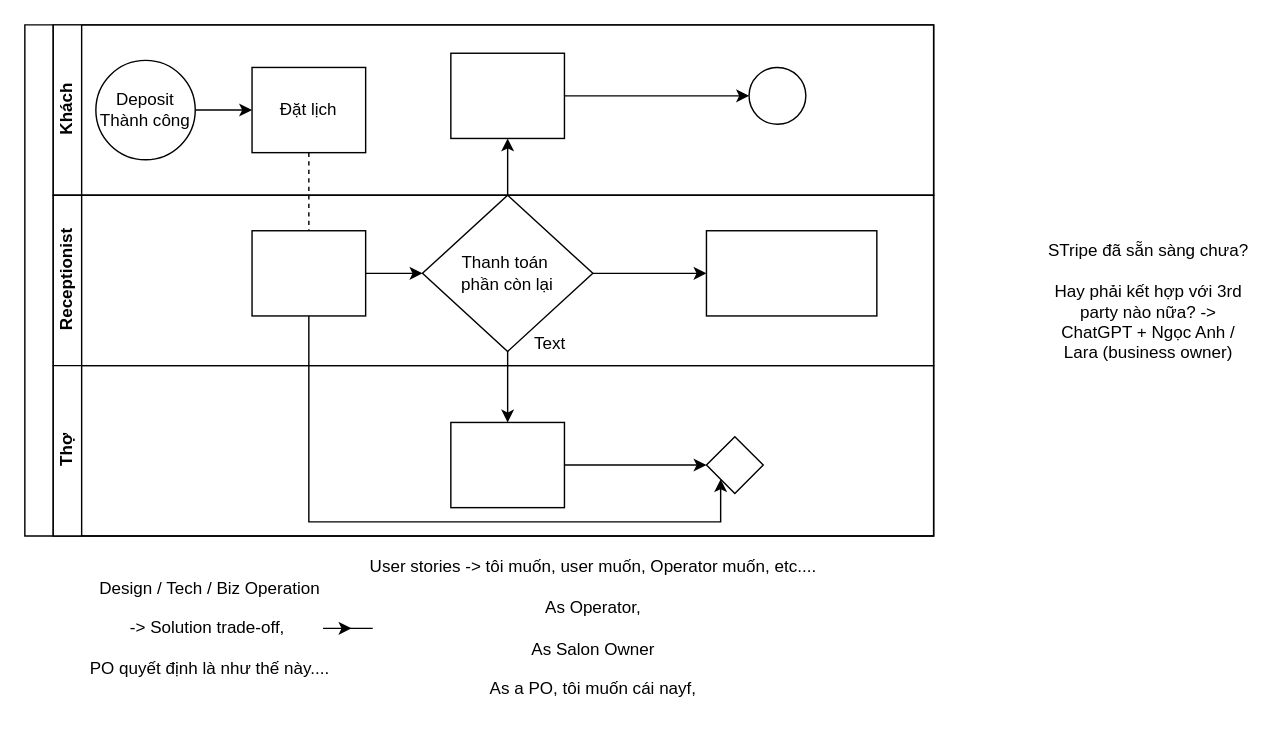
Some shapes in this 1275 by 731 pixel diagram are drawn without their labels. The box of each missing label's shape, as (x1, y1, x2, y2) in pixels:
Bank transfer Cash Credit card (trả góp hay không?): (705, 229, 877, 316)
Checkin: (251, 229, 366, 316)
Pool: (23, 23, 934, 536)
